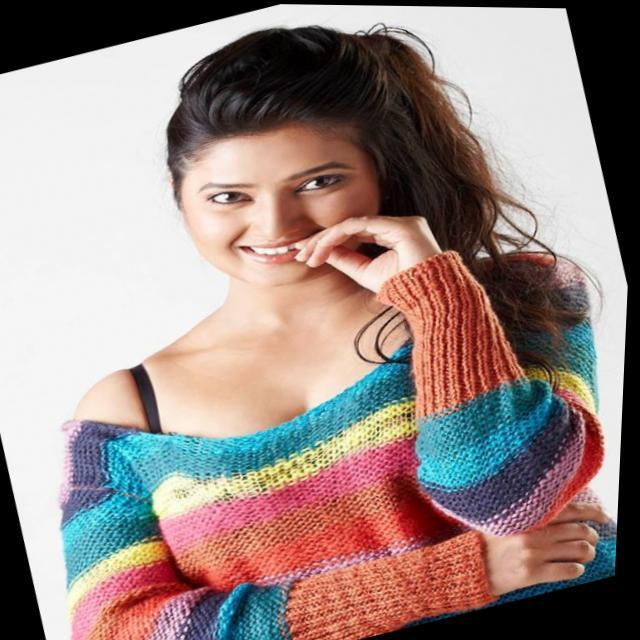Nonhelmet: (179, 77, 400, 287)
